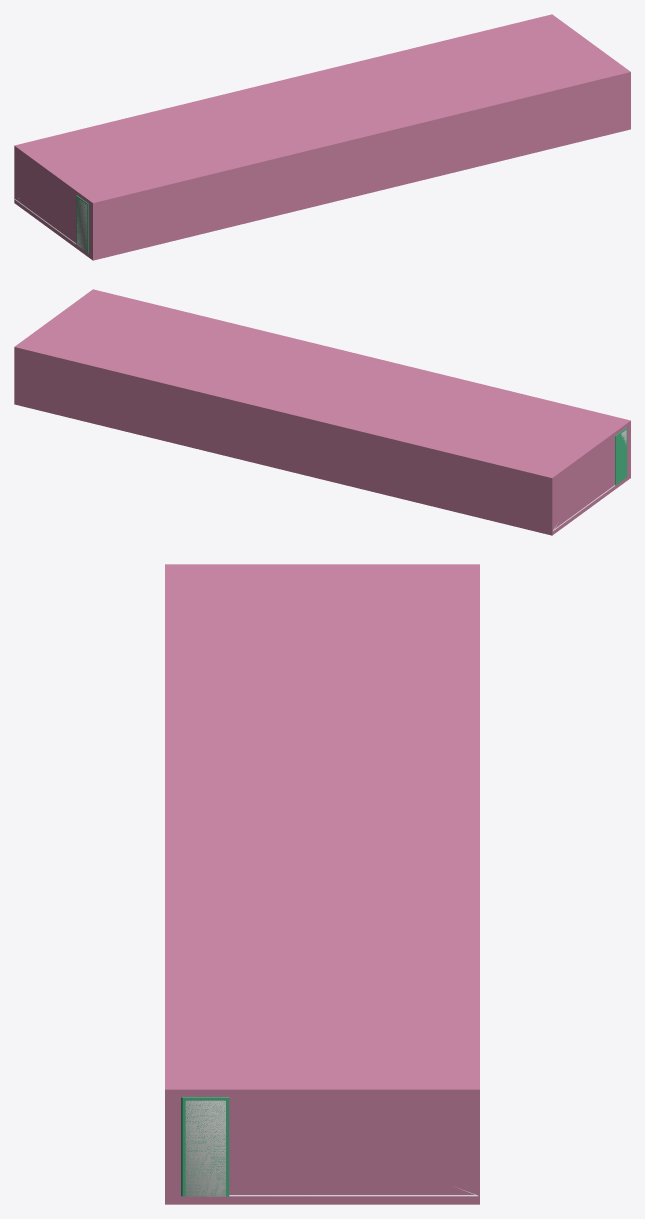
File: curb_straight_4m.dae
The picture shows the model from 3 angles, top to bottom: view 1: azimuth 30°, elevation 25°; view 2: azimuth 150°, elevation 25°; view 3: azimuth 270°, elevation 25°; orthographic projection. The views are drawn at different scales.
Parts seen in each view (by area): view 1: Untitled, tree_oak_bush_a300, Colmesh-1; view 2: Untitled, Colmesh-1; view 3: Untitled, tree_oak_bush_a300, Colmesh-1.
Boxes of the visible parts, x1,y1,x2,y2 form: Untitled: (14, 14, 630, 260); tree_oak_bush_a300: (14, 197, 87, 252); Colmesh-1: (76, 195, 88, 253); Untitled: (14, 289, 630, 535); Colmesh-1: (615, 427, 627, 485); Untitled: (165, 564, 479, 1204); tree_oak_bush_a300: (185, 1100, 477, 1196); Colmesh-1: (181, 1097, 229, 1196).
Bounding box in the file's own units: 4 × 1.01 × 0.4075.
